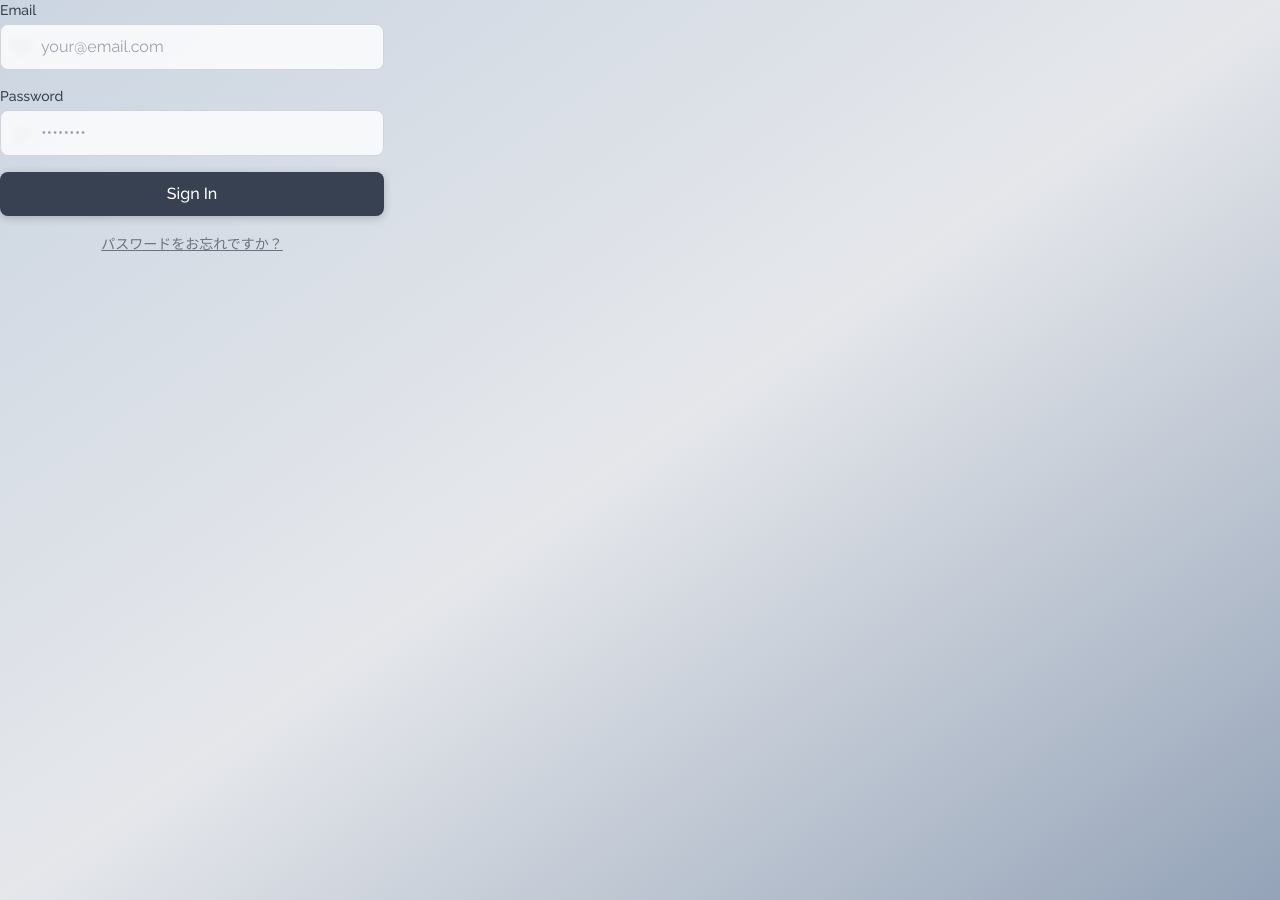
Test: AuthForm › password reset › returns to login form from reset success
The width and height of the screenshot is (1280, 900).
Click the button "パスワードをお忘れですか？": (192, 244) [101,234,283,254]
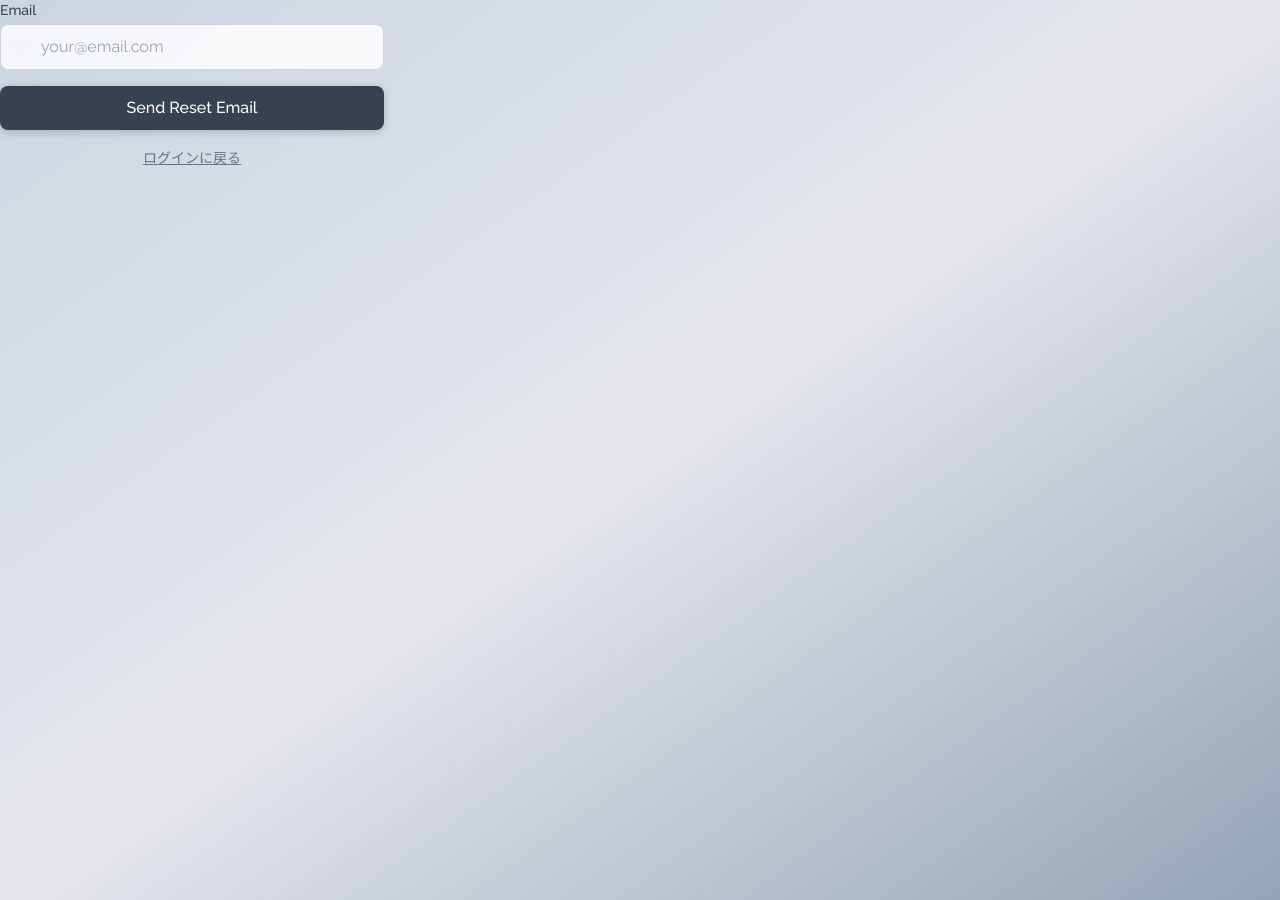
In the field labelled "Email": (192, 47) [0,24,384,70], type "reset@example.com"
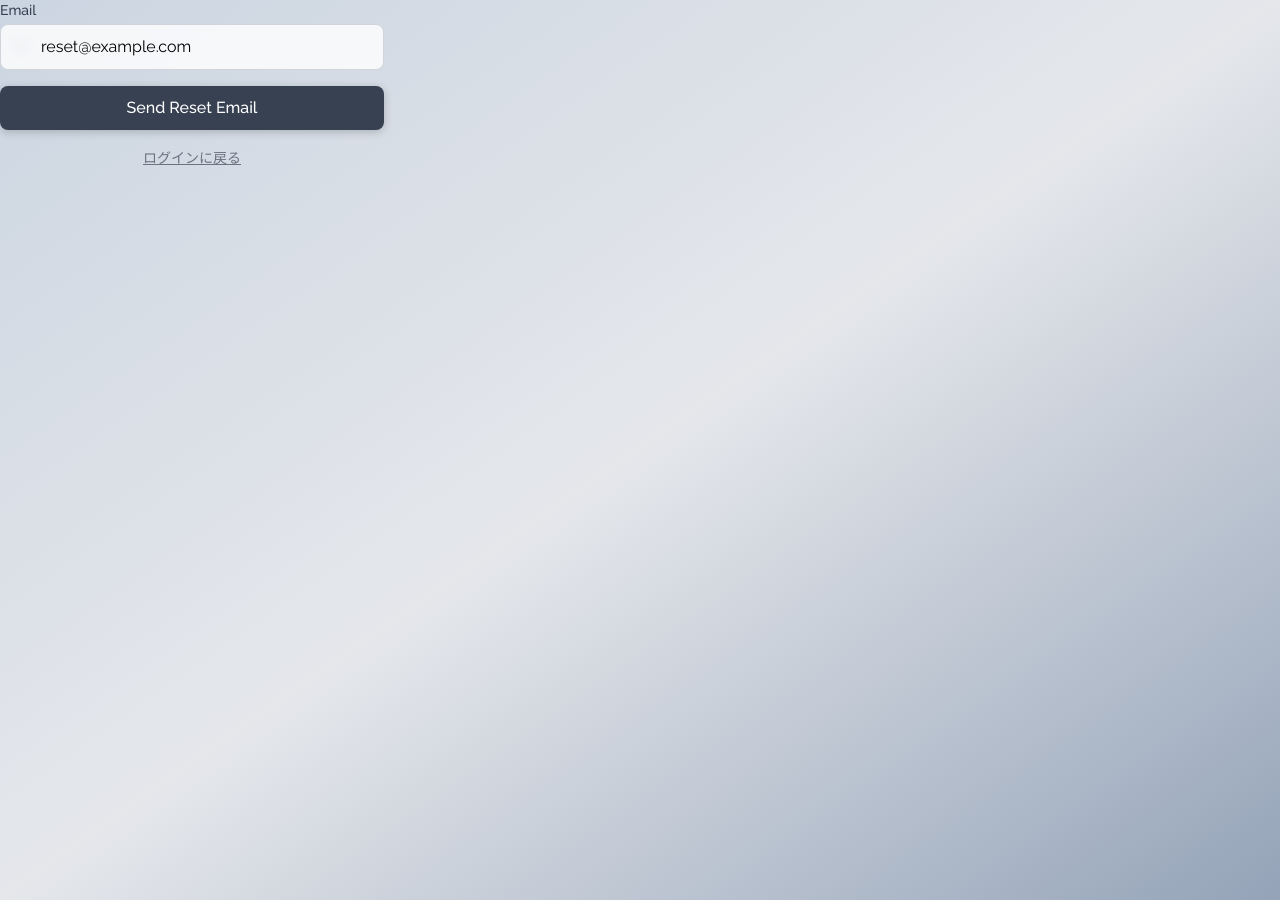
Click the button "Send Reset Email": (192, 108) [0,86,384,130]
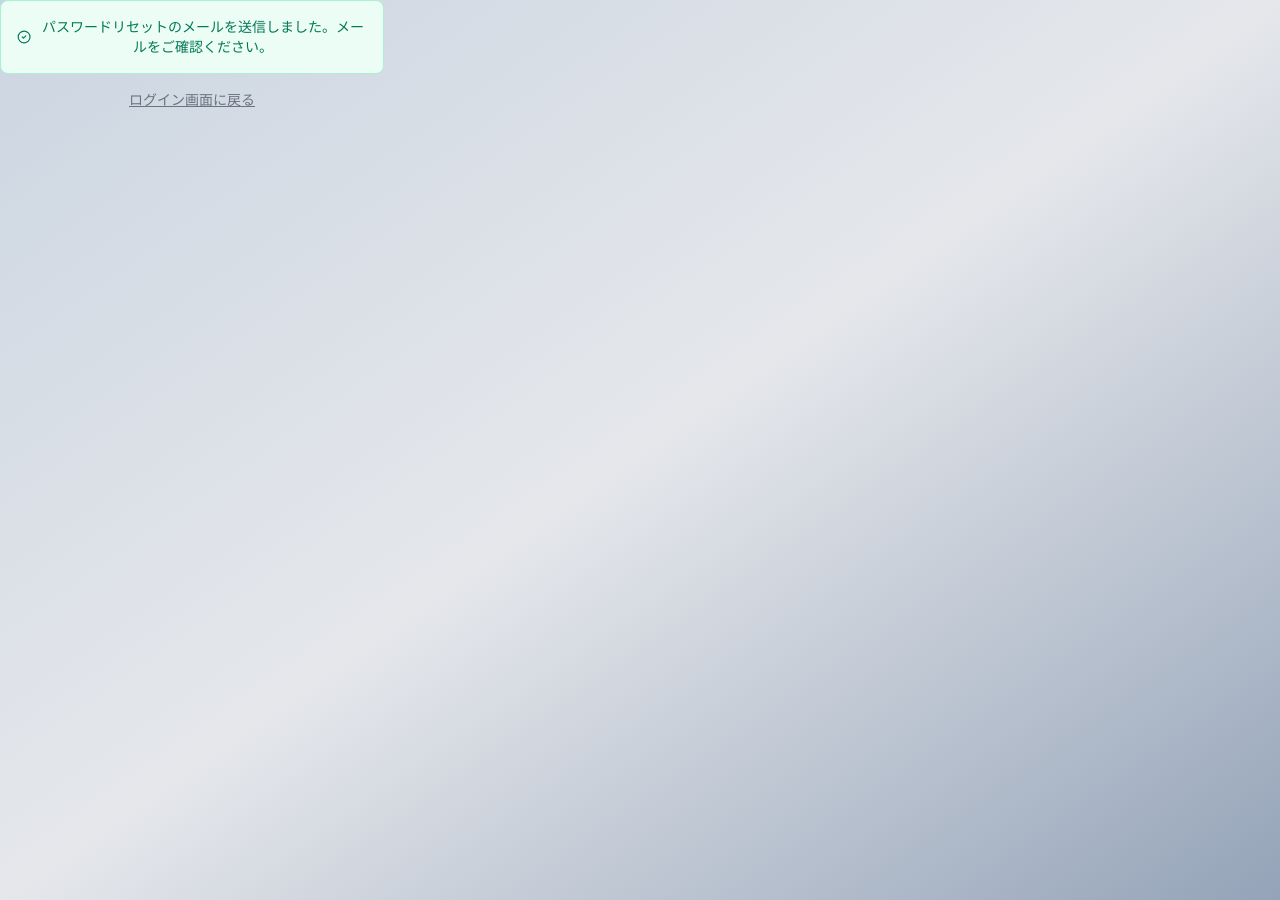
Check: the button "ログイン画面に戻る" is shown
Click the button "ログイン画面に戻る": (192, 100) [129,90,255,110]
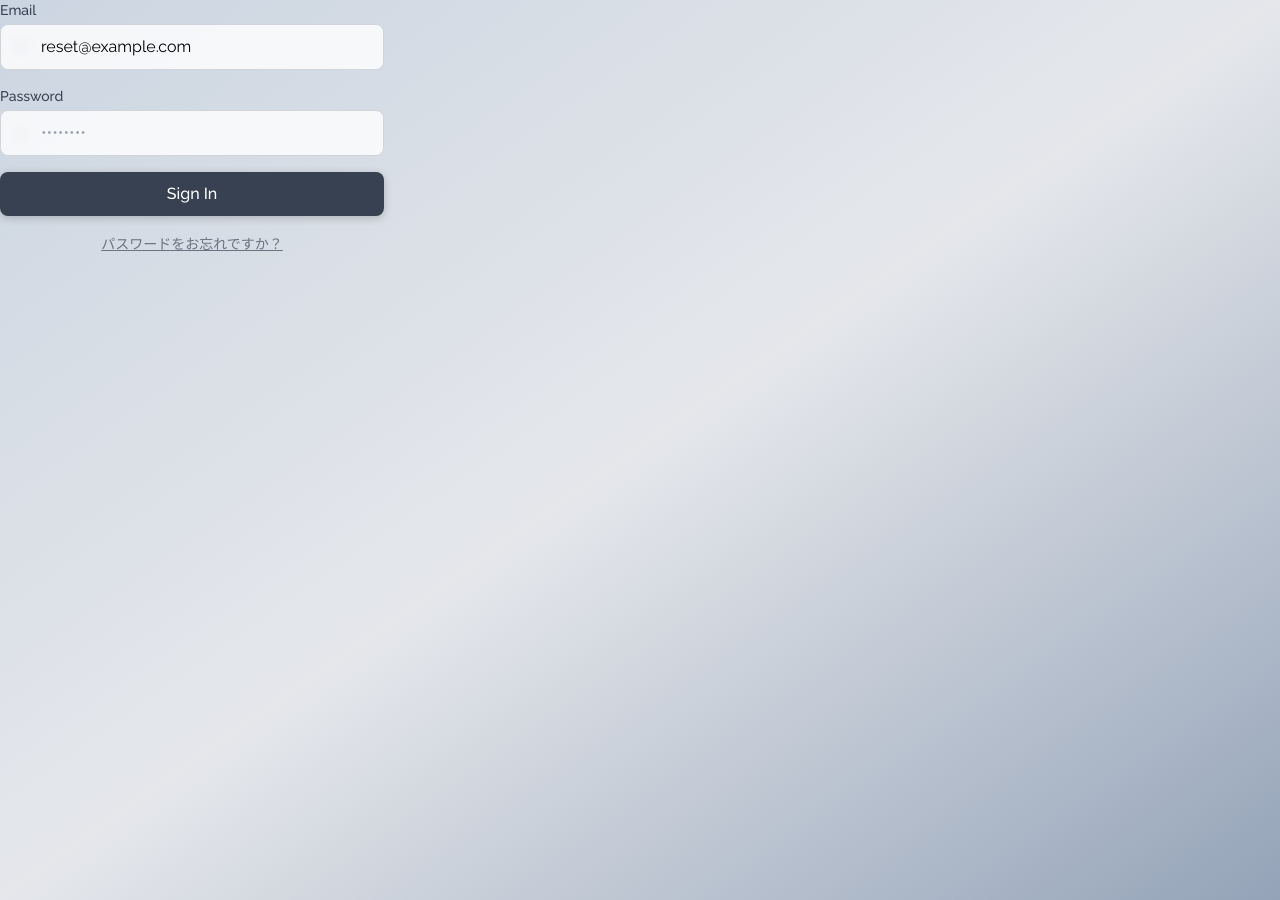
Check: the button "Sign In" is shown, box [0,172,384,216]
